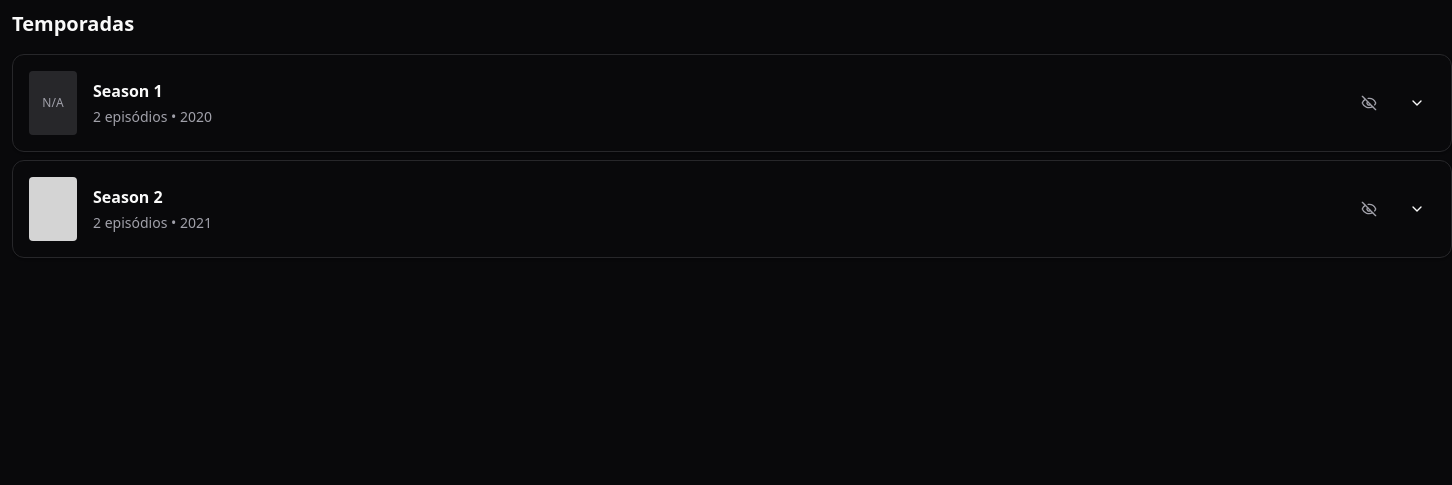
Test: SeasonList › expands season and loads episodes
The width and height of the screenshot is (1452, 485).
Click the heading "Season 1": (128, 91) [93,80,163,102]
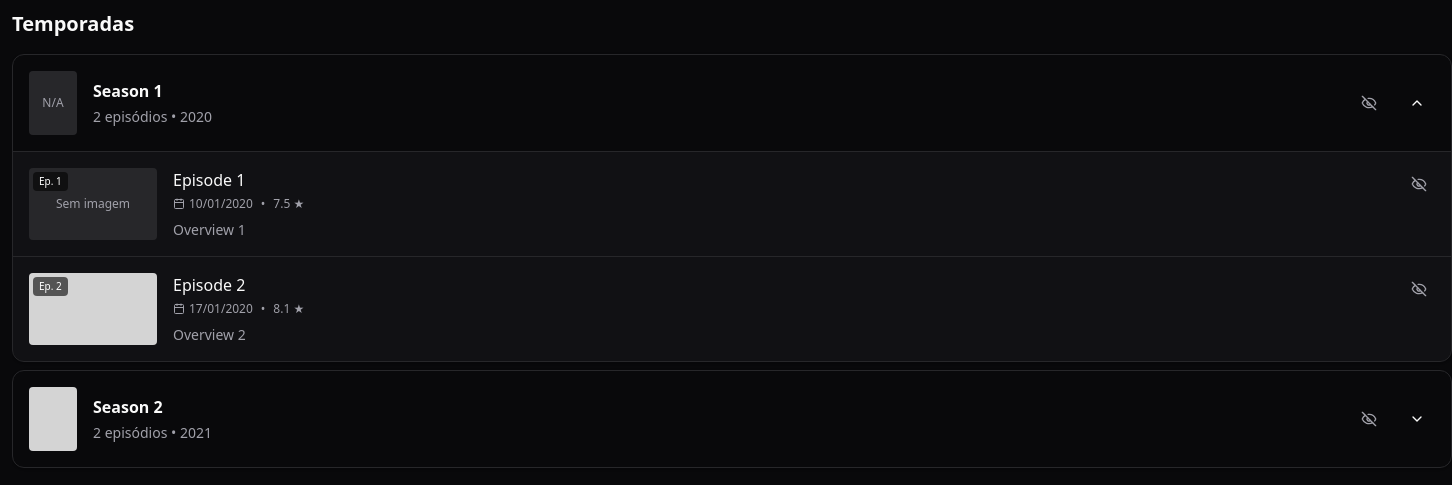
Expected: the heading "Episode 1" is shown, [173,169,245,191]
